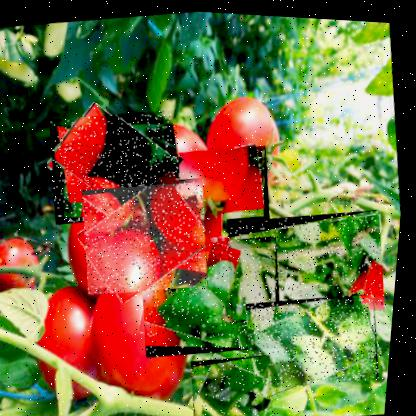tomato: (221, 197, 395, 326), (134, 226, 293, 363), (42, 101, 191, 231), (76, 172, 219, 300), (140, 137, 281, 259), (243, 282, 389, 392), (189, 347, 284, 415)
